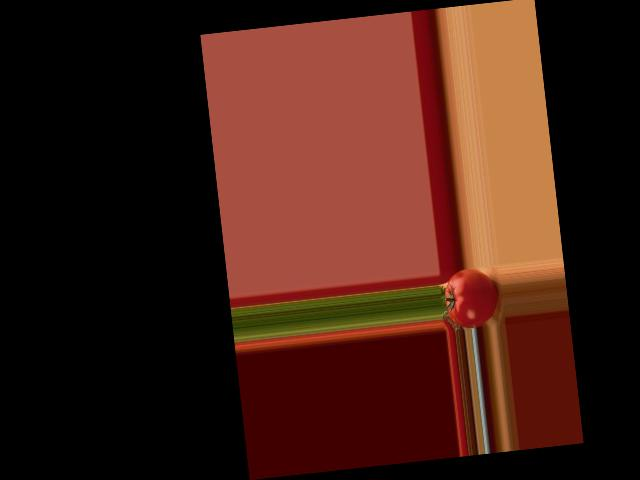tomato: (442, 266, 499, 330)
